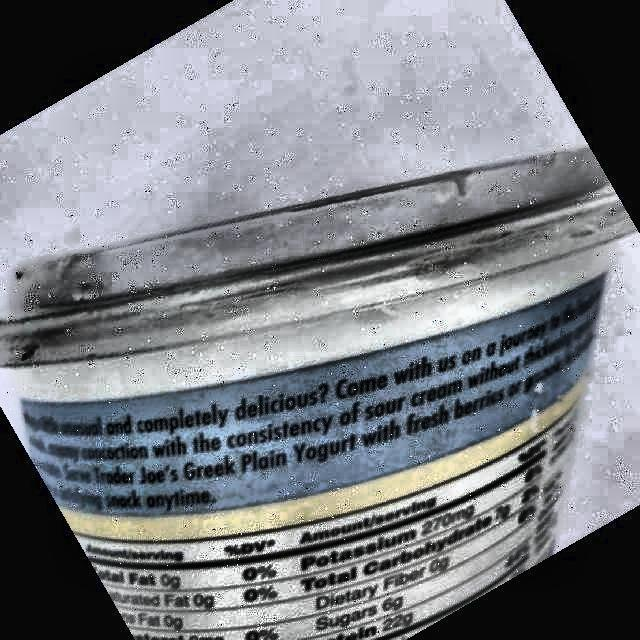plastic: (0, 149, 632, 640)
